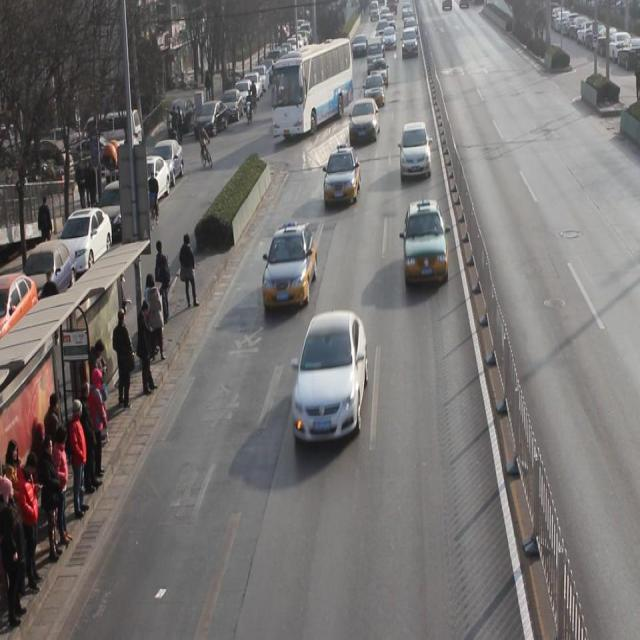car: (293, 310, 368, 440), (263, 224, 317, 309), (403, 200, 450, 284), (323, 148, 362, 206), (400, 120, 432, 181), (350, 98, 380, 144), (363, 73, 386, 108), (370, 58, 390, 89)
van: (270, 38, 353, 140)
